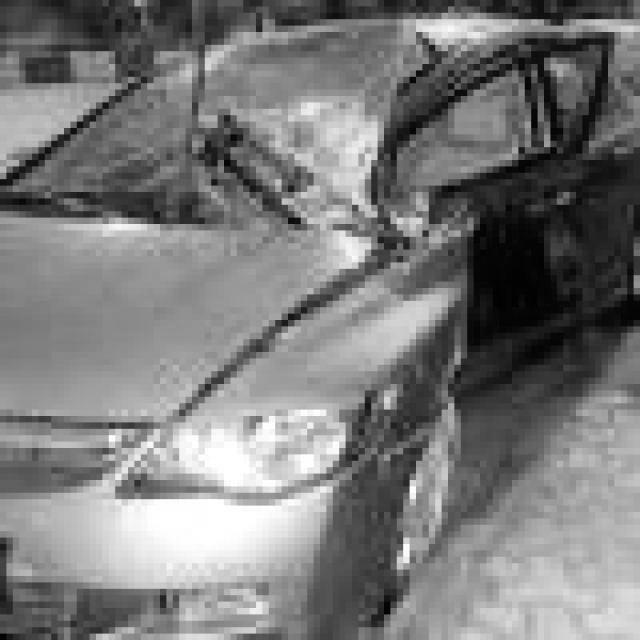Front-windscreen-damage: (32, 38, 416, 236)
